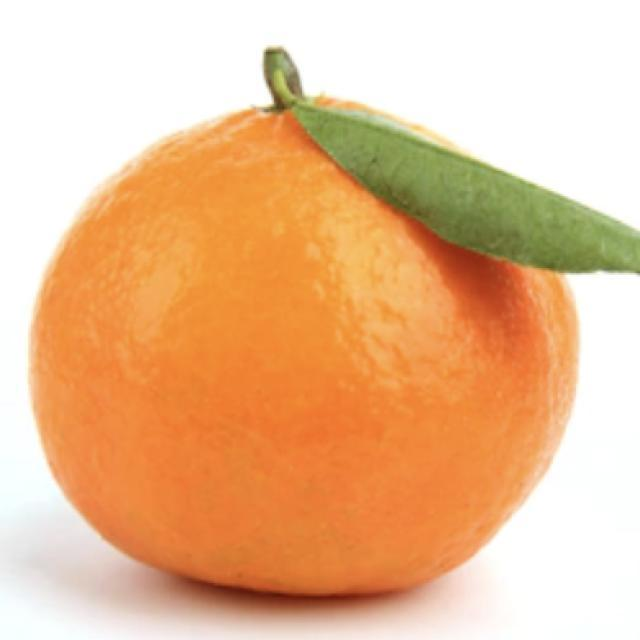Orange: (26, 47, 582, 599)
